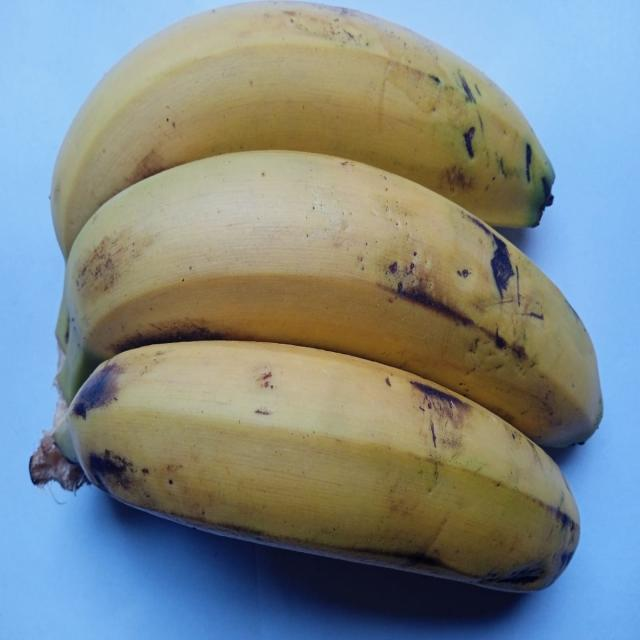banana: (58, 151, 601, 446), (30, 341, 579, 590), (51, 2, 554, 256)
